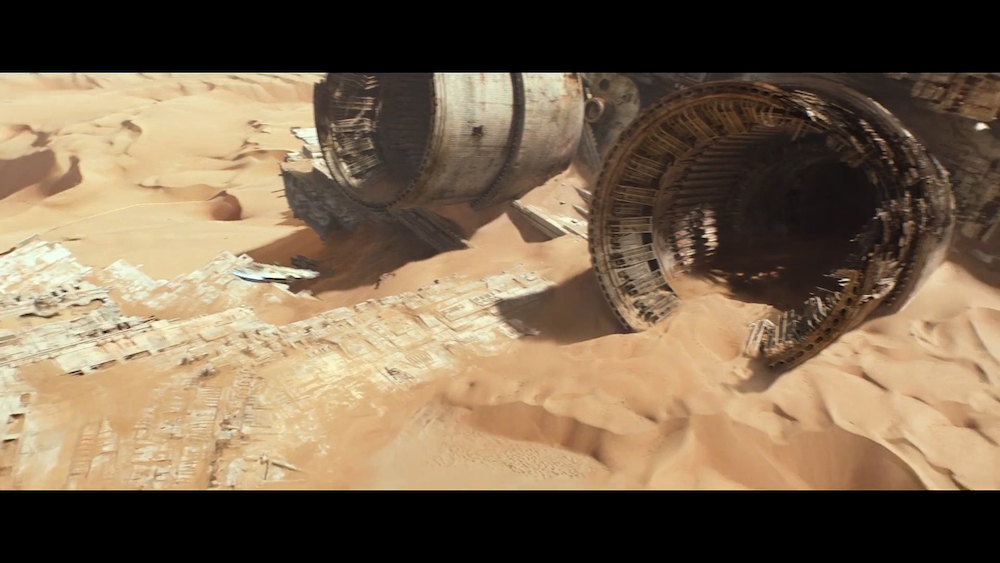Millennium Falcon: (223, 261, 323, 287)
